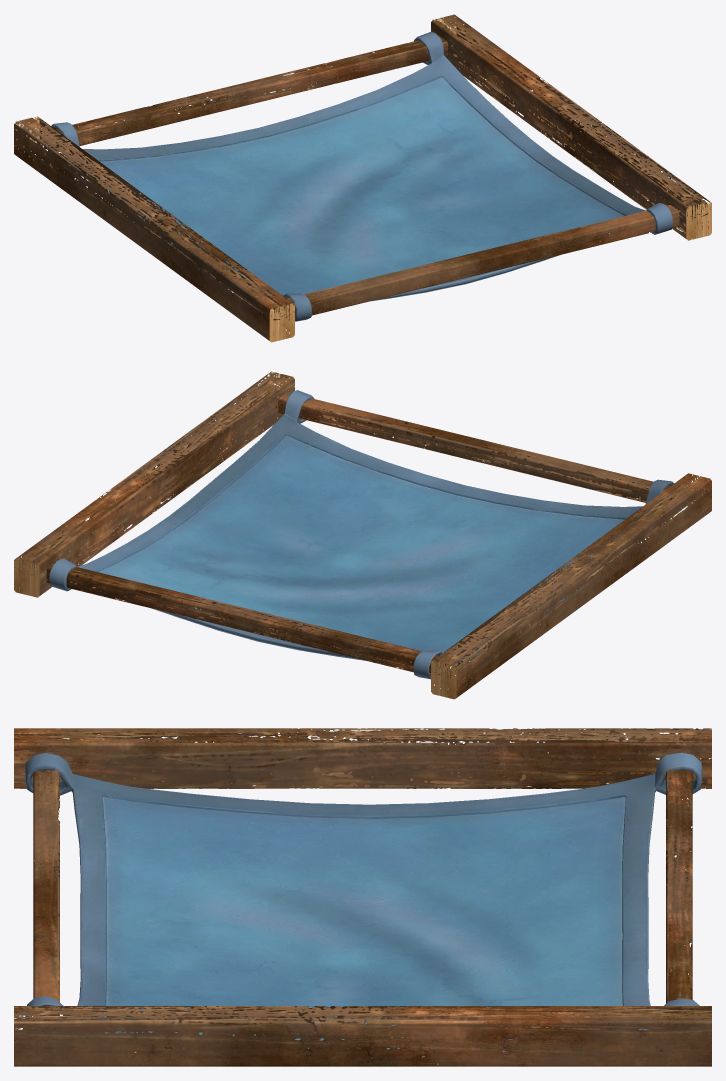
The picture shows the model from 3 angles, top to bottom: view 1: azimuth 30°, elevation 25°; view 2: azimuth 150°, elevation 25°; view 3: azimuth 270°, elevation 25°; orthographic projection. The views are drawn at different scales.
Parts seen in each view (by area): view 1: SM_BB_T4_Roof_Large_02_LOD0; view 2: SM_BB_T4_Roof_Large_02_LOD0; view 3: SM_BB_T4_Roof_Large_02_LOD0.
Boxes of the visible parts, bbox=[...] form: SM_BB_T4_Roof_Large_02_LOD0: bbox=[14, 14, 711, 342]; SM_BB_T4_Roof_Large_02_LOD0: bbox=[14, 371, 711, 699]; SM_BB_T4_Roof_Large_02_LOD0: bbox=[14, 728, 711, 1066].
Size of the model in its own units: 3 by 0.356 by 3.
2 materials, 2 textured.
